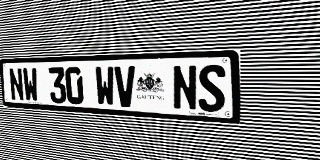0: (65, 67, 84, 105)
3: (48, 67, 66, 104)
N: (172, 65, 198, 111), (8, 68, 24, 101)
S: (198, 64, 225, 113)
V: (114, 66, 136, 108)
W: (94, 66, 115, 106), (22, 68, 39, 102)
